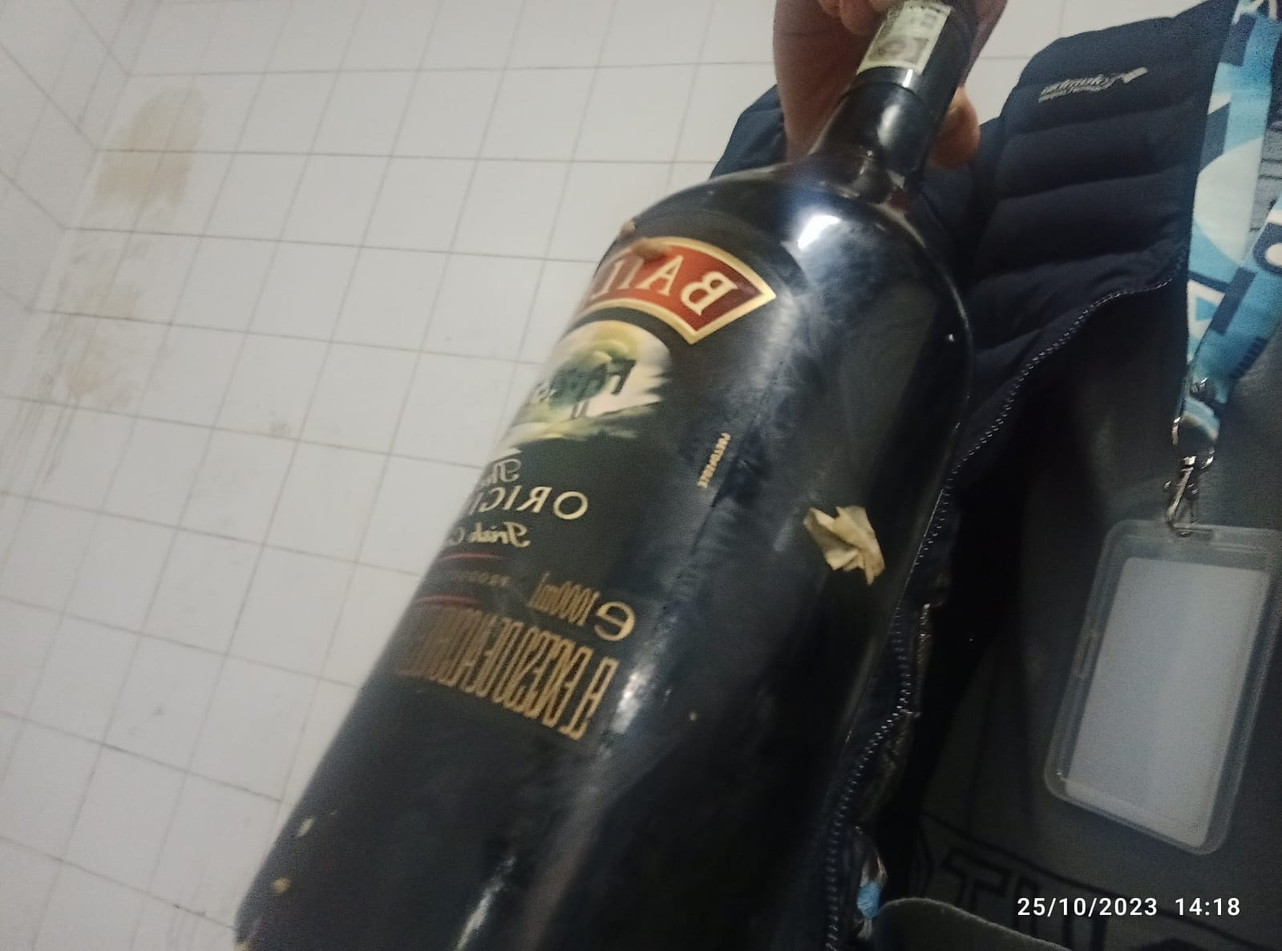Vidrio: (233, 0, 1007, 951)
